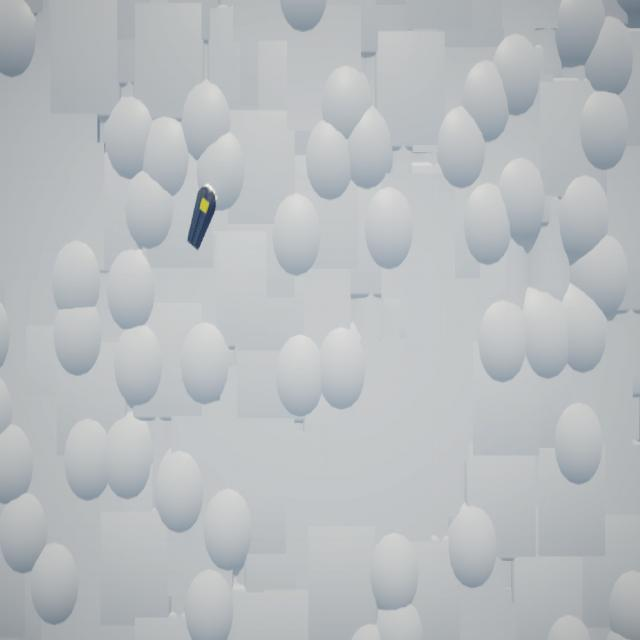handle_folk: (188, 186, 218, 252)
